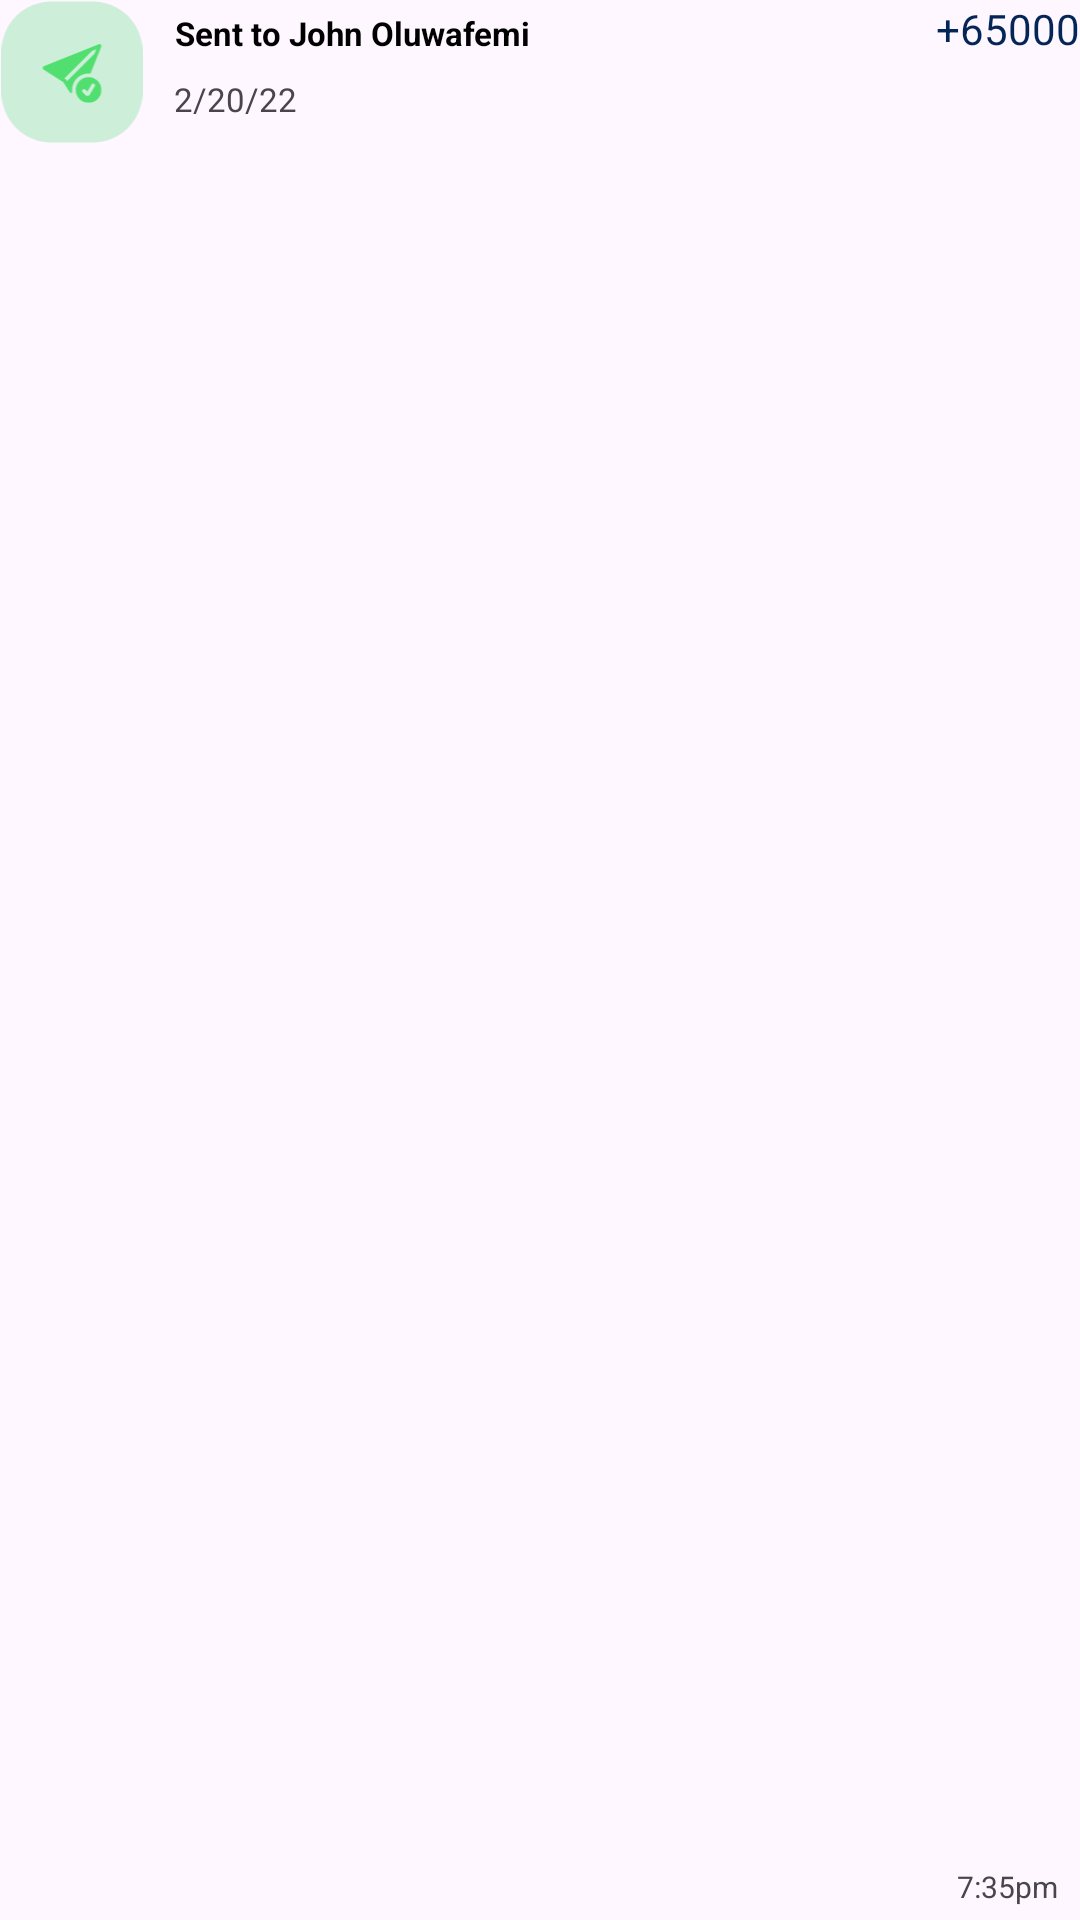

Screen size 1080*1920. Icon name, then its center in pixels as (x=x, y=y):
Transaction Item icon: (x=72, y=72)
